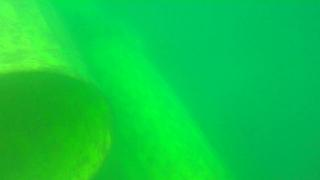pipe: (53, 1, 235, 179), (1, 1, 116, 179)
